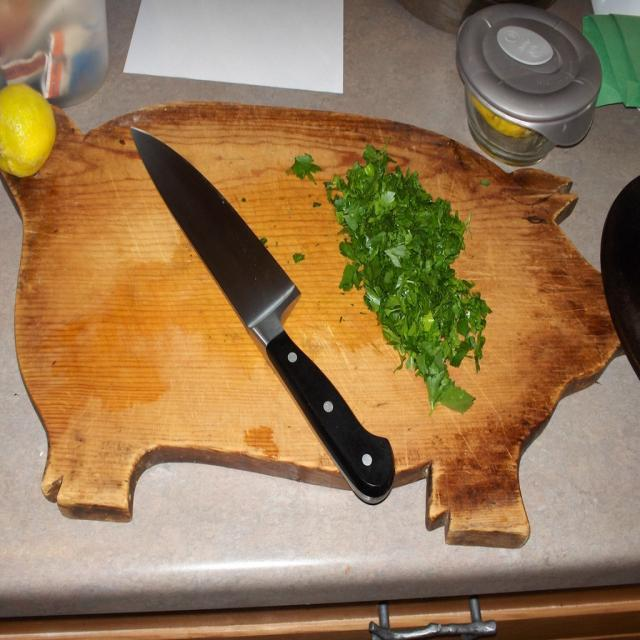Knife: (131, 128, 392, 503)
